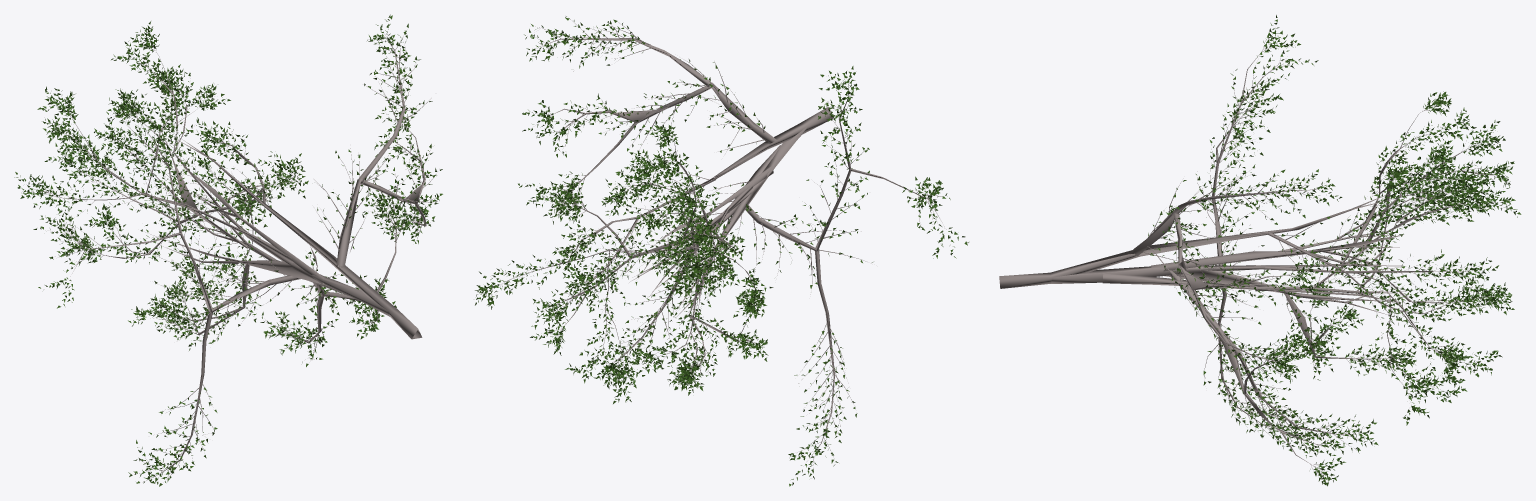
The model's file is Gum Tree.fbx.
3 renders of one model, left to right at view 1: azimuth 30°, elevation 25°; view 2: azimuth 150°, elevation 25°; view 3: azimuth 270°, elevation 25°, orthographic.
Visible parts, largest first — view 1: tree.001; view 2: tree.001; view 3: tree.001.
Boxes of the visible parts, bbox=[...] form: tree.001: bbox=[14, 14, 442, 486]; tree.001: bbox=[475, 16, 968, 486]; tree.001: bbox=[999, 15, 1521, 486].
Bounding box in the file's own units: 2040 × 1909 × 2138.
